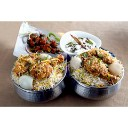briyani: (14, 53, 64, 89), (72, 52, 124, 83)
